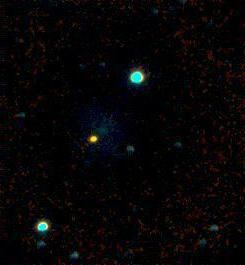star: (78, 123, 108, 153)
